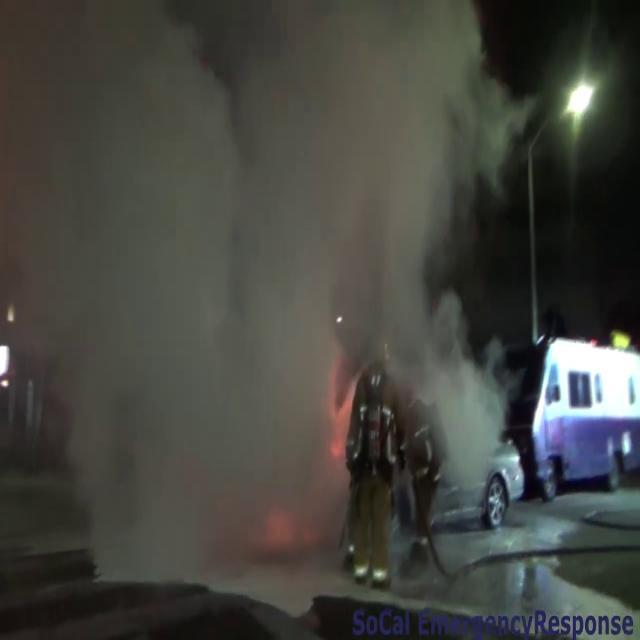Smoke: (0, 0, 508, 558)
